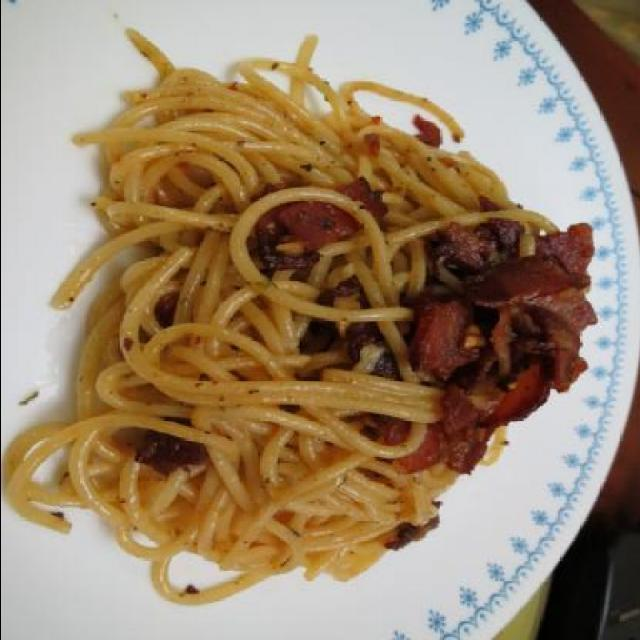Oil pasta: (48, 70, 600, 612)
